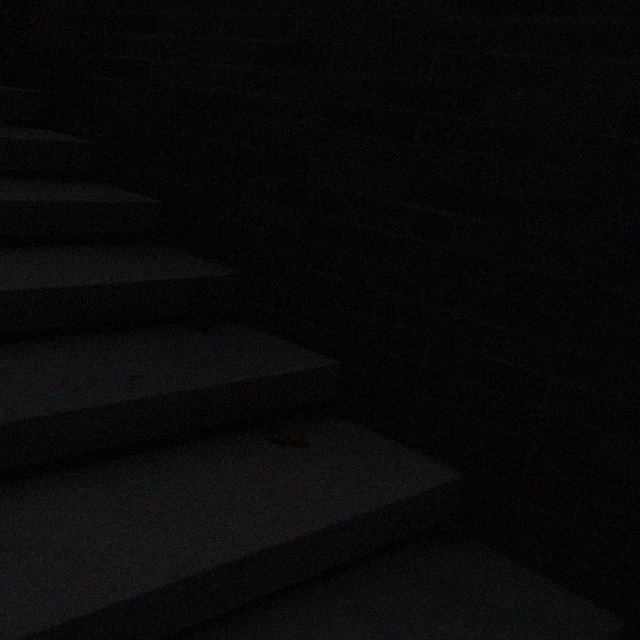stair: (0, 85, 463, 639)
